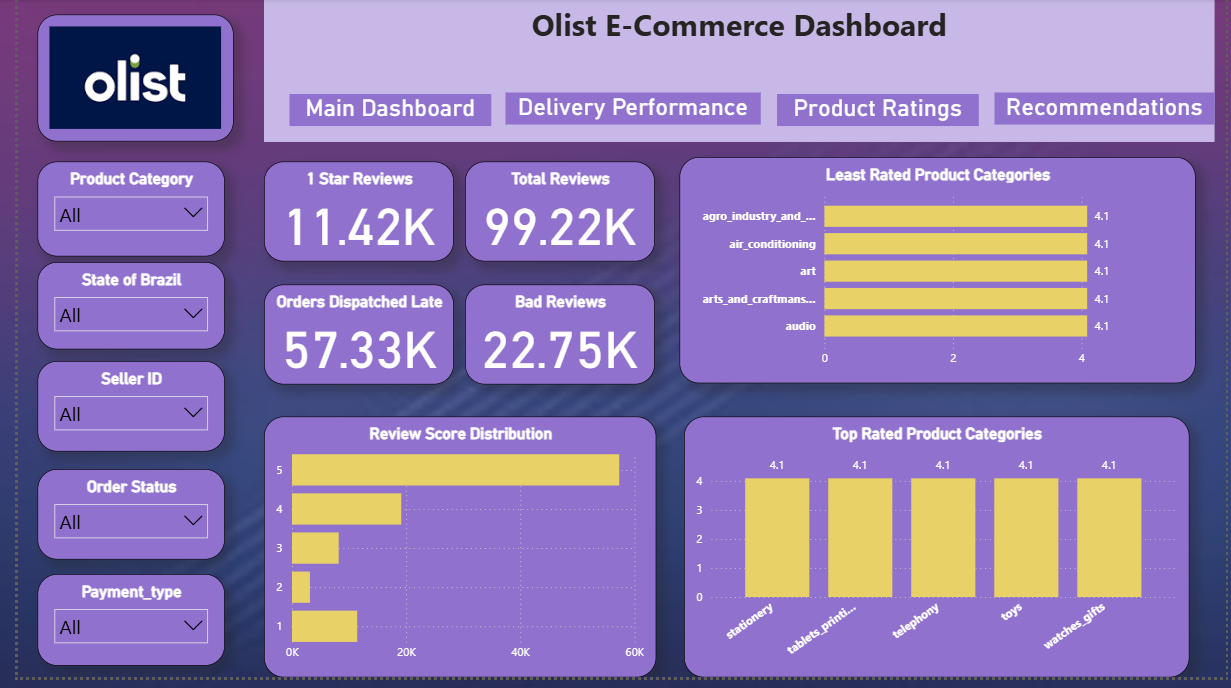

The dashboard page shown, as its layout file describes it:
{"tool":"powerbi","page":{"name":"page 3","canvas":[1280,720],"ordinal":2},"visuals":[{"type":"card","title":"1 Star Reviews","fields":{"Values":["olist_order_reviews.One_Star_Review"]},"box":[260.1,174,201.6,105.7],"z":0},{"type":"card","title":"Total Reviews","fields":{"Values":["olist_order_reviews.Total Reviews"]},"box":[474.7,174,201.6,105.7],"z":1000},{"type":"slicer","title":"Product Category","fields":{"Values":["product_category_name_translation.product_category_name_english"]},"box":[21.1,174,198.3,100.8],"z":2000},{"type":"slicer","title":"Order Status","fields":{"Values":["olist_orders.order_status"]},"box":[21.1,499.1,198.3,95.9],"z":3000},{"type":"slicer","title":"State of Brazil","fields":{"Values":["customer_olist.customer_state"]},"box":[21.1,279.6,198.3,92.7],"z":4000},{"type":"slicer","title":"Seller ID","fields":{"Values":["olist_sellers.seller_id"]},"box":[21.1,385.3,198.3,95.9],"z":5000},{"type":"slicer","title":"Payment_type","fields":{"Values":["olist_order_payments.payment_type"]},"box":[21.1,611.3,198.3,97.5],"z":6000},{"type":"card","title":"Orders Dispatched Late","fields":{"Values":["olist_order_reviews.Five_Star_Reviews"]},"box":[260.1,304,201.6,105.7],"z":7000},{"type":"card","title":"Bad Reviews","fields":{"Values":["olist_order_reviews.Bad_Reviews"]},"box":[474.7,304,201.6,105.7],"z":8000},{"type":"textbox","box":[260.1,0,1008,152.8],"z":9000},{"type":"image","box":[21.1,17.9,208.1,134.9],"z":10000},{"type":"clusteredBarChart","title":"Review Score Distribution","fields":{"Category":["olist_order_reviews.review_score"],"Y":["olist_order_reviews.Review_Count"]},"box":[260.1,443.8,416.2,276.4],"z":11000},{"type":"hundredPercentStackedBarChart","title":"Top Rated Product Categories","fields":{"Y":["olist_order_reviews.Avg Rating"],"Category":["olist_products.product_category_name"]},"box":[700.7,175.6,544.6,258.5],"z":12000},{"type":"clusteredColumnChart","title":"Least Rated Product Categories","fields":{"Category":["olist_products.product_category_name"],"Y":["olist_order_reviews.Avg Rating"]},"box":[700.7,450.3,544.6,258.5],"z":13000},{"type":"actionButton","title":"Main Dashboard","box":[288.3,102,213.8,40.5],"z":14000},{"type":"actionButton","title":"Delivery Performance","box":[516.6,100.4,270.5,40.5],"z":15000},{"type":"actionButton","title":"Product Ratings","box":[804.9,102,213.8,40.5],"z":16000},{"type":"actionButton","title":"Recommendations","box":[1034.9,100.4,233.2,40.5],"z":17000}]}

Visuals, with their boxes in screenshot pixels (x1, y1, x2, y2), scaled from the page's 1280x720 canvas onto the 1231x688 screenshot:
"1 Star Reviews" card: 250 166 444 267
"Total Reviews" card: 457 166 650 267
"Product Category" slicer: 20 166 211 263
"Order Status" slicer: 20 477 211 569
"State of Brazil" slicer: 20 267 211 356
"Seller ID" slicer: 20 368 211 460
"Payment_type" slicer: 20 584 211 677
"Orders Dispatched Late" card: 250 290 444 391
"Bad Reviews" card: 457 290 650 391
textbox: 250 0 1220 146
image: 20 17 220 146
"Review Score Distribution" clusteredBarChart: 250 424 650 687
"Top Rated Product Categories" hundredPercentStackedBarChart: 674 168 1198 415
"Least Rated Product Categories" clusteredColumnChart: 674 430 1198 677
"Main Dashboard" actionButton: 277 97 483 136
"Delivery Performance" actionButton: 497 96 757 135
"Product Ratings" actionButton: 774 97 980 136
"Recommendations" actionButton: 995 96 1220 135
